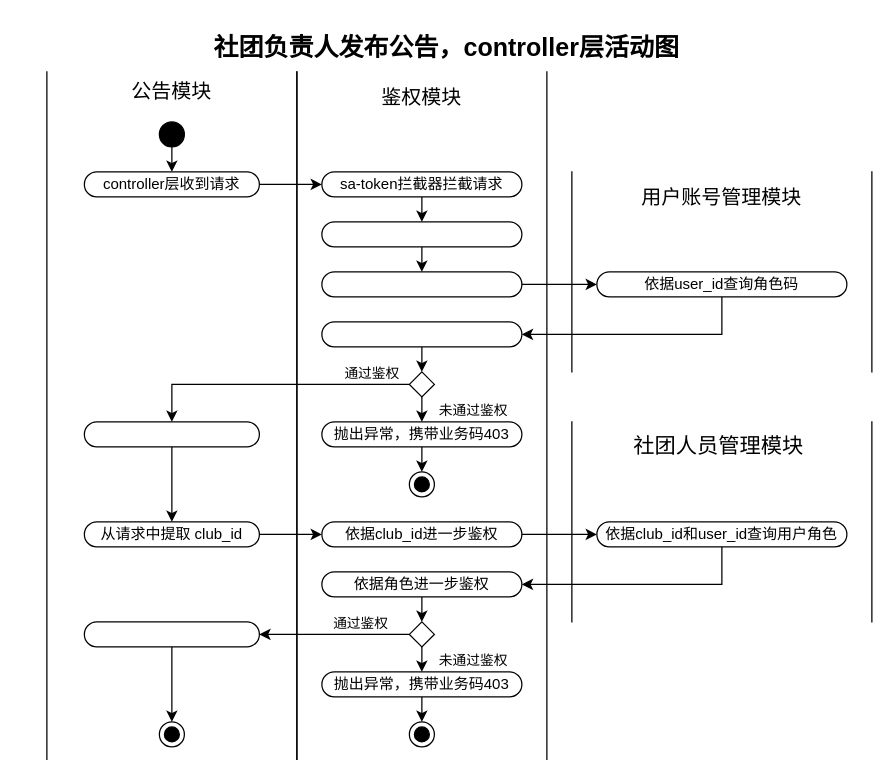
This 894x781 diagram has some shape labels left out. Each missing label, with the centre of its shape:
从session中获取 user_id: the point at 421,284
从请求头中提取 session_id: the point at 421,234
依据角色码初步鉴权: the point at 421,334
初步鉴权: the point at 171,434
请求进入service层: the point at 171,634
